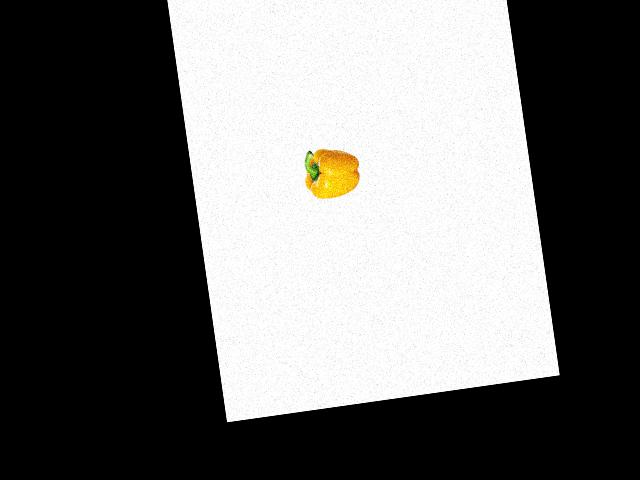bell_pepper: (295, 138, 365, 206)
